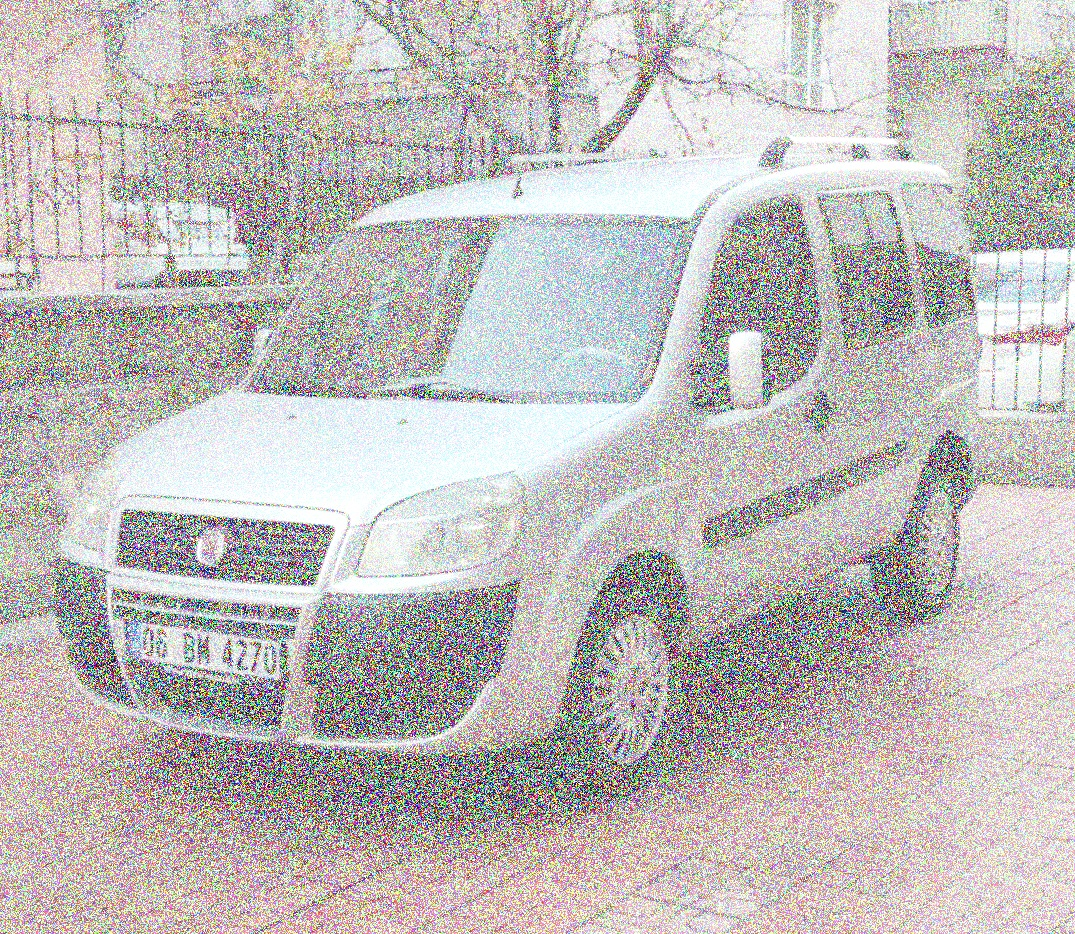plaka: (137, 614, 289, 679)
